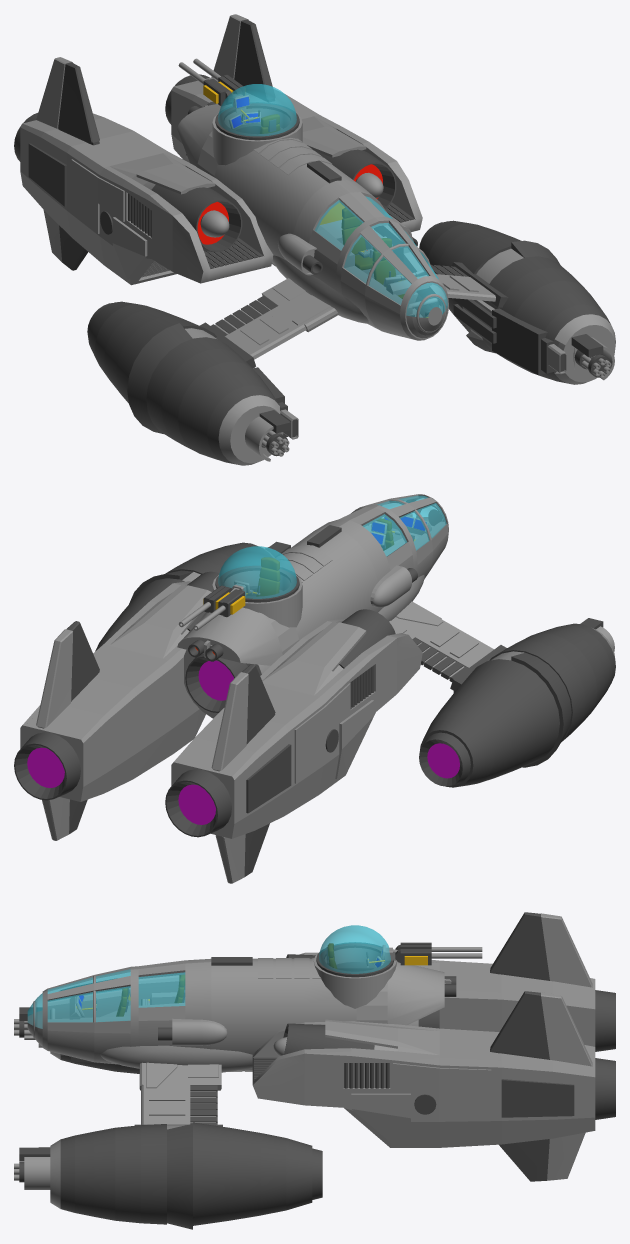
File: ship.FBX
3 views of the same model, one above another, from view 1: azimuth 30°, elevation 25°; view 2: azimuth 150°, elevation 25°; view 3: azimuth 270°, elevation 25° (orthographic). The views are drawn at different scales.
Parts seen in each view (by area): view 1: Box04, Assembly001, Cone29, Box09, Box01, Box03, GeoSphere01, Cone32, Box07, Cone74, Box24, Cone51 (+47 smaller); view 2: Box09, Box04, Cone36, Box01, Box07, Box03, Cylinder04, Cylinder01, Cone73, Cone29, GeoSphere01, Cone72 (+29 smaller); view 3: Box09, Box04, Cone03, Box30, Box03, Box07, Box21, Cone36, Cone108, Cone51, Cone27, Cone32 (+33 smaller).
Boxes of the visible parts, <box> form: Box04: <box>20,113,273,285</box>; Assembly001: <box>143,149,396,251</box>; Cone29: <box>293,181,426,340</box>; Box09: <box>171,77,422,231</box>; Box01: <box>211,278,338,359</box>; Box03: <box>36,57,99,145</box>; GeoSphere01: <box>218,84,296,136</box>; Cone32: <box>344,223,438,304</box>; Box07: <box>211,14,274,101</box>; Cone74: <box>127,323,192,433</box>; Box24: <box>71,159,124,233</box>; Cone51: <box>269,163,356,261</box>; Box09: <box>20,581,211,801</box>; Box04: <box>171,618,422,838</box>; Cone36: <box>177,607,299,665</box>; Box01: <box>389,601,493,681</box>; Box07: <box>36,621,99,728</box>; Box03: <box>211,664,275,771</box>; Cylinder04: <box>165,769,231,837</box>; Cylinder01: <box>14,732,80,800</box>; Cone73: <box>457,659,559,769</box>; Cone29: <box>339,494,448,612</box>; GeoSphere01: <box>218,546,296,598</box>; Cone72: <box>441,678,535,777</box>; Box09: <box>252,1019,595,1147</box>; Box04: <box>299,952,595,1046</box>; Cone03: <box>42,962,211,1050</box>; Box30: <box>139,1062,221,1124</box>; Box03: <box>490,912,592,987</box>; Box07: <box>490,991,592,1066</box>; Box21: <box>393,1063,491,1120</box>; Cone36: <box>356,961,444,1025</box>; Cone108: <box>193,1122,229,1225</box>; Cone51: <box>211,965,252,1071</box>; Cone27: <box>252,958,304,1053</box>; Cone32: <box>47,969,130,1022</box>.
Bounding box in the file's own units: 89.5 × 47.05 × 116.
